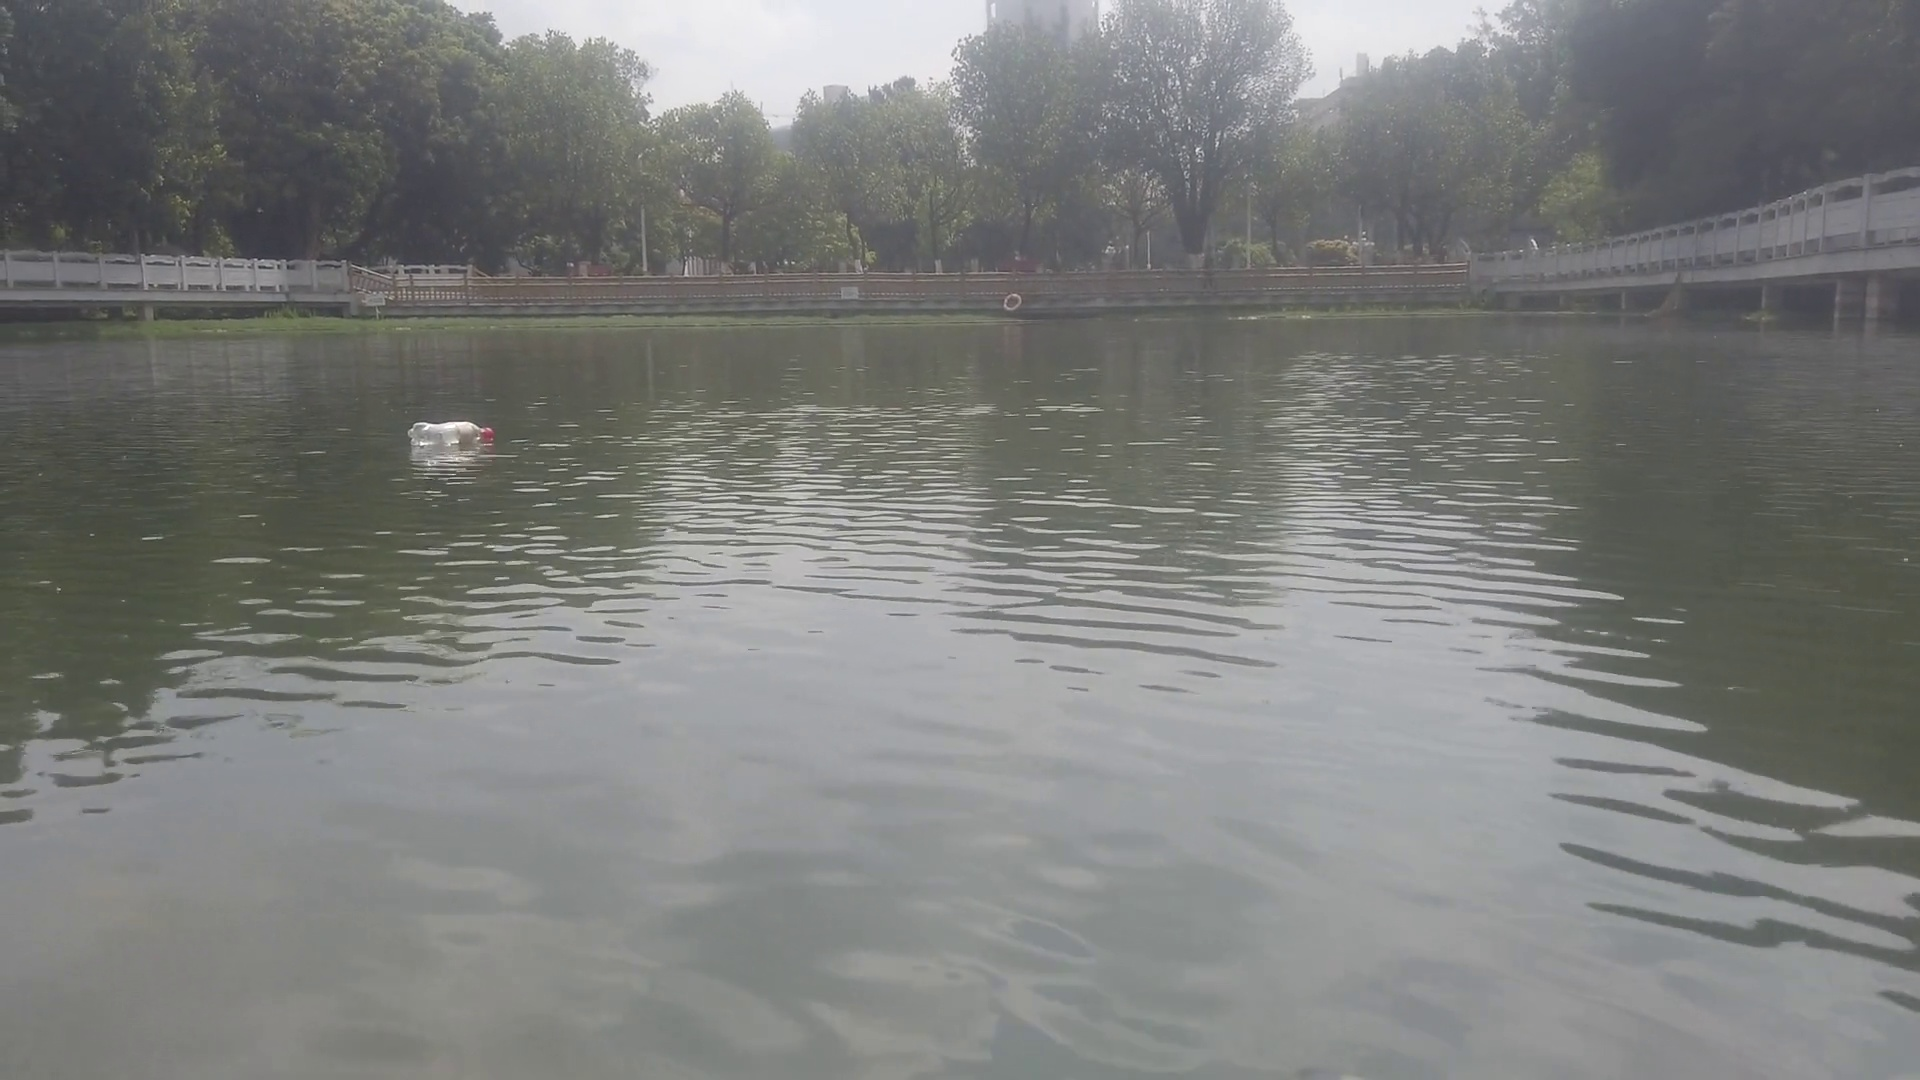bottle: (404, 415, 501, 448)
